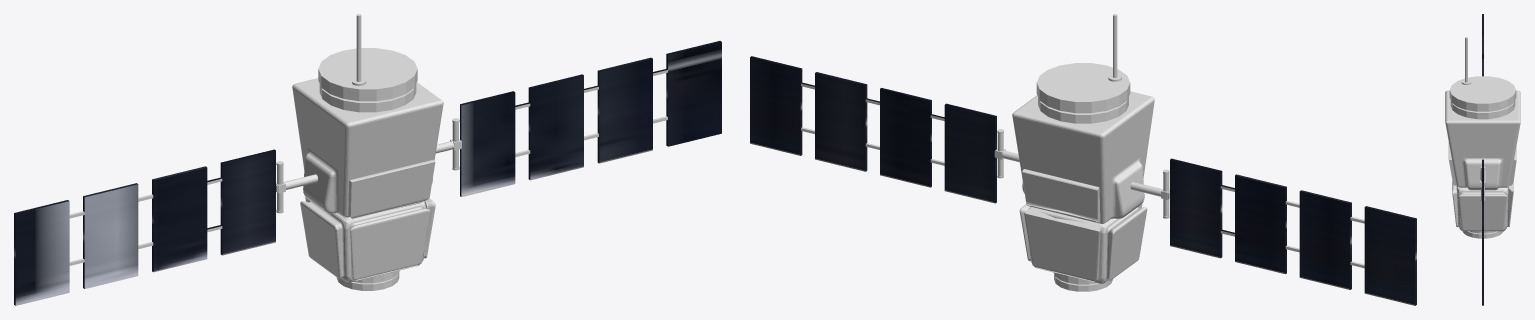
Rendered from Satellite 1.fbx.
3 renders of one model, left to right at view 1: azimuth 30°, elevation 25°; view 2: azimuth 150°, elevation 25°; view 3: azimuth 270°, elevation 25°, orthographic. The views are drawn at different scales.
Parts seen in each view (by area): view 1: Cylinder.001; view 2: Cylinder.001; view 3: Cylinder.001.
Boxes of the visible parts, x1,y1,x2,y2 form: Cylinder.001: (14,14,721,305); Cylinder.001: (750,14,1416,305); Cylinder.001: (1445,14,1520,305).
Size of the model in its own units: 1435 by 538 by 198.
4 materials, 1 textured.
